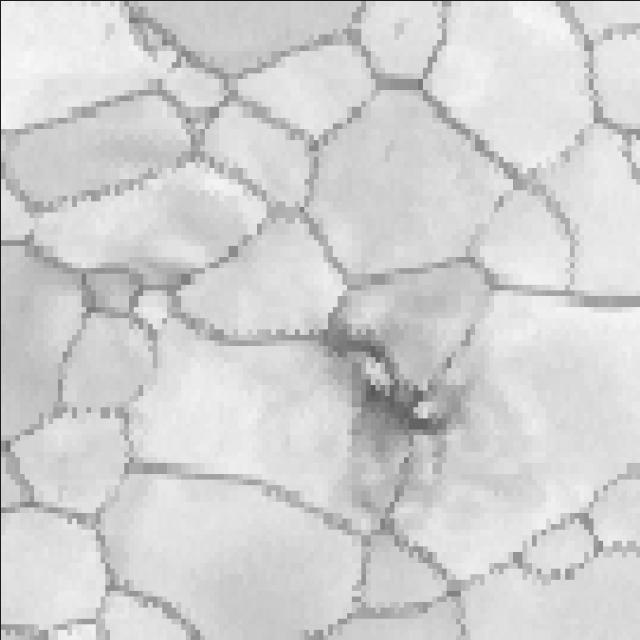good_void: (268, 281, 531, 520)
